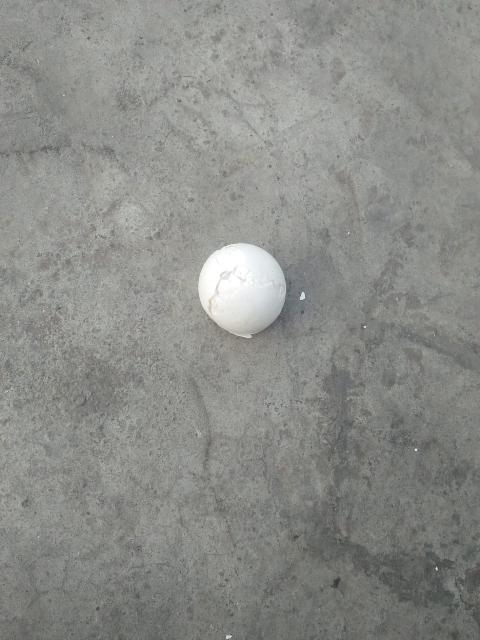Roto: (197, 242, 287, 338)
